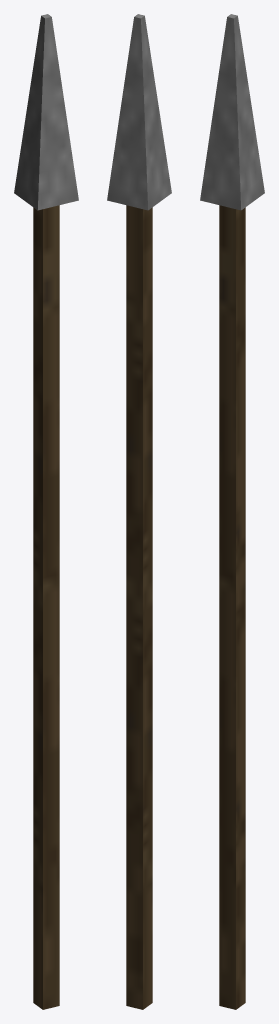
File: SkeletonSpearModel.fbx
3 renders of one model, left to right at view 1: azimuth 30°, elevation 25°; view 2: azimuth 150°, elevation 25°; view 3: azimuth 330°, elevation 25°, orthographic.
Visible parts, largest first — view 1: SkeletonSpearModel; view 2: SkeletonSpearModel; view 3: SkeletonSpearModel.
Boxes of the visible parts, left/top/right/bottom form: SkeletonSpearModel: left=14, top=14, right=78, bottom=1009; SkeletonSpearModel: left=107, top=14, right=171, bottom=1009; SkeletonSpearModel: left=200, top=14, right=264, bottom=1009.
Bounding box in the file's own units: 19.43 × 445 × 19.43.
